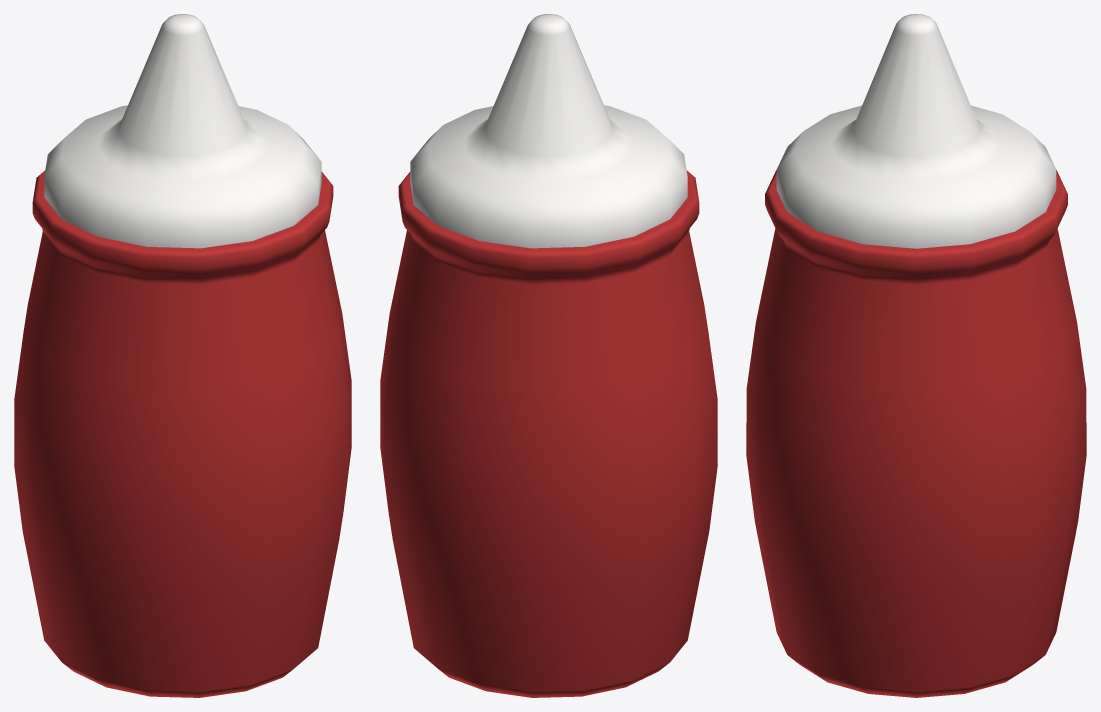
The model's file is Ketchup_1.glb.
The picture shows the model from 3 angles, left to right: view 1: azimuth 30°, elevation 25°; view 2: azimuth 150°, elevation 25°; view 3: azimuth 270°, elevation 25°; orthographic projection.
Parts seen in each view (by area): view 1: Ketchup_1; view 2: Ketchup_1; view 3: Ketchup_1.
Part boxes in pixels (x1=…): Ketchup_1: x1=14, y1=14, x2=351, y2=697; Ketchup_1: x1=380, y1=14, x2=717, y2=697; Ketchup_1: x1=746, y1=14, x2=1086, y2=697.
Bounding box in the file's own units: 0.1478 × 0.2998 × 0.1478.
Materials: 1 (1 with a texture image).
